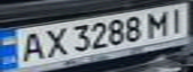2: (87, 19, 112, 49)
3: (69, 21, 93, 53)
8: (106, 16, 130, 46), (124, 14, 148, 43)
A: (12, 29, 48, 63)
I: (163, 4, 193, 34)
M: (142, 8, 175, 38)
X: (39, 25, 69, 58)
